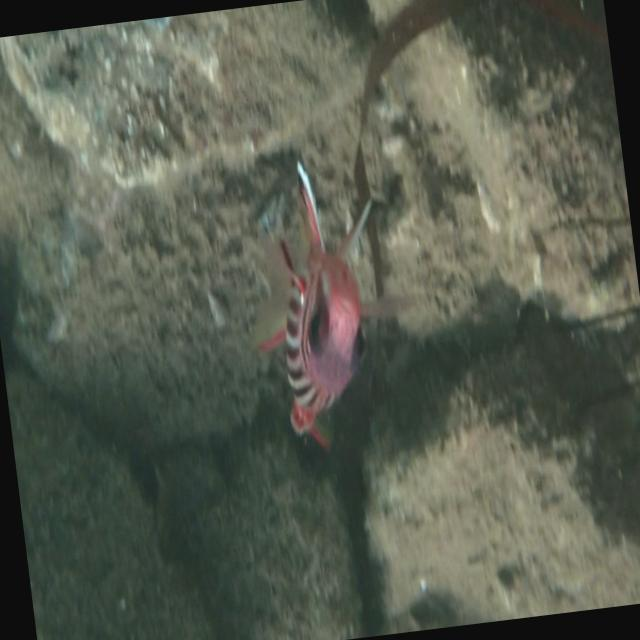Asker Baligi: (231, 149, 404, 460)
